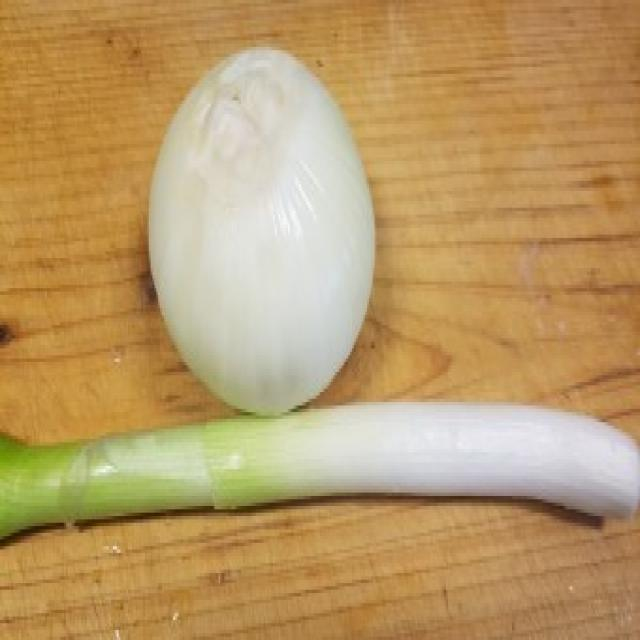onion: (136, 28, 384, 418)
